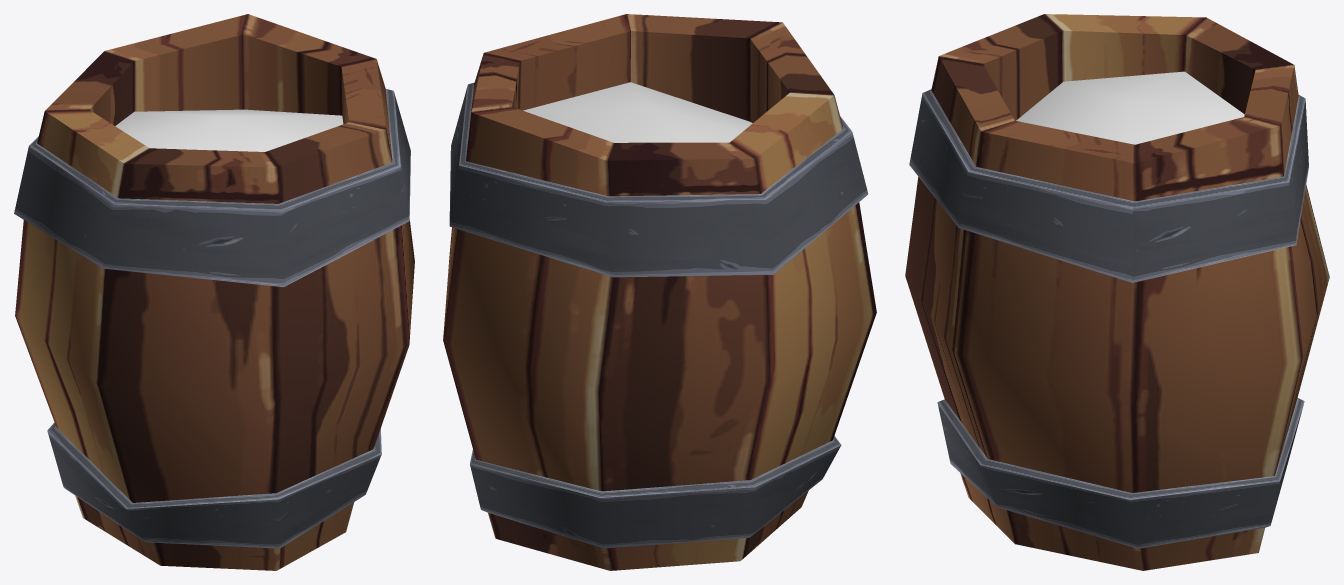
File: tonneau-4.glb
3 renders of one model, left to right at view 1: azimuth 30°, elevation 25°; view 2: azimuth 150°, elevation 25°; view 3: azimuth 270°, elevation 25°, orthographic. The views are drawn at different scales.
Parts seen in each view (by area): view 1: SM_PROP_barrel_03; view 2: SM_PROP_barrel_03; view 3: SM_PROP_barrel_03.
Boxes of the visible parts, left/top/right/bottom form: SM_PROP_barrel_03: left=14, top=14, right=414, bottom=570; SM_PROP_barrel_03: left=443, top=14, right=876, bottom=570; SM_PROP_barrel_03: left=905, top=14, right=1329, bottom=570.
Size of the model in its own units: 0.7706 by 0.8439 by 0.7486.
Materials: 3 (2 with a texture image).
